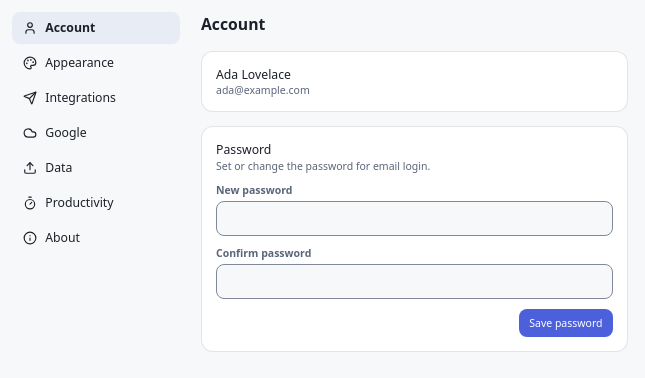
Test: SettingsPage › clamps work-hours-per-day to [1, 24] on blur
Click the button with test id "settings-tab-productivity": x=96, y=203 [12,187,180,218]
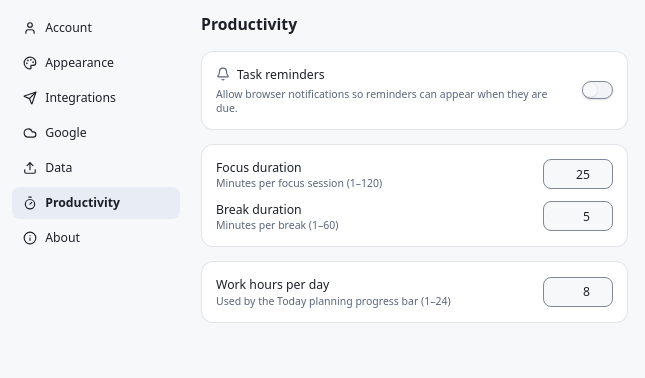
Replace the text in the number field with test id "work-hours-input" with "99": x=578, y=292 [543,277,613,307]
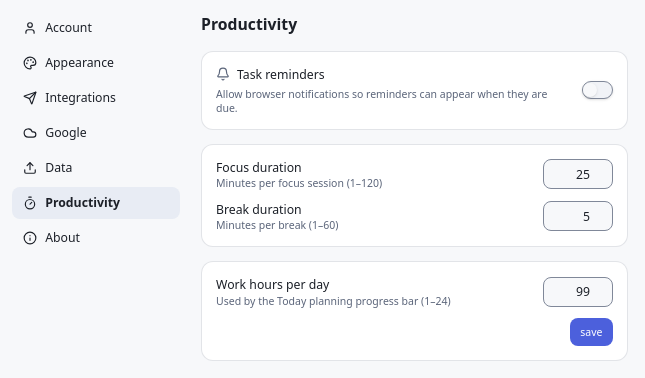
Leave the number field with test id "work-hours-input", box [543,277,613,307]
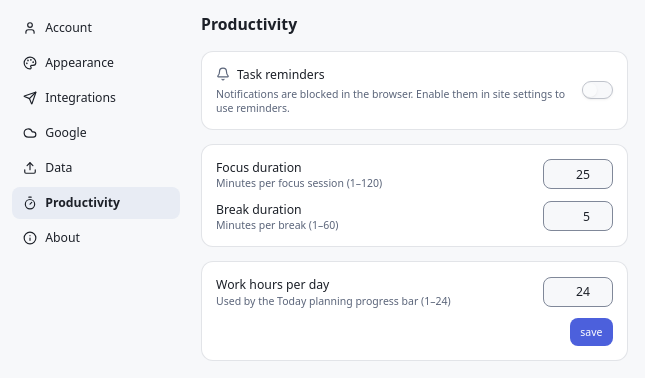
expect the number field with test id "work-hours-input" holds "24": met, box [543,277,613,307]
